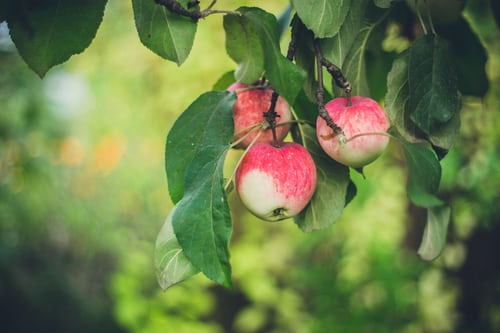apple: (234, 144, 317, 223), (315, 94, 394, 170), (216, 80, 291, 152)
